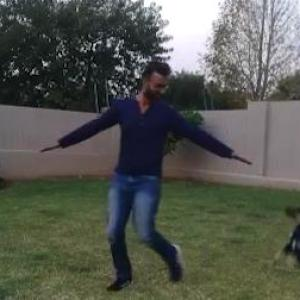land: (65, 63, 260, 280)
